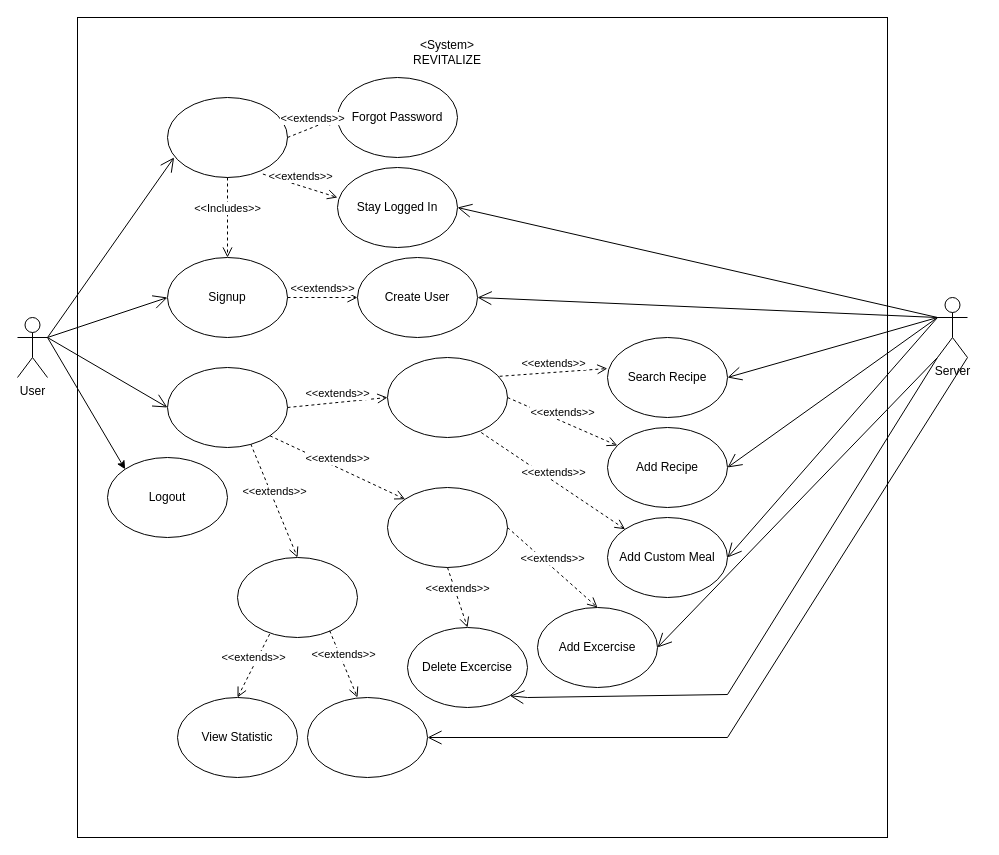
This 999x855 diagram has some shape labels left out. Each missing label, with the centre of its shape:
"Alter Sleep" goes at pixel 367 737.
"Display Diet Section" goes at pixel 447 397.
"Display Rest Section" goes at pixel 297 597.
"Display Workout Section" goes at pixel 447 527.
"Enter Main Calender" goes at pixel 227 407.
"Login" goes at pixel 227 137.
